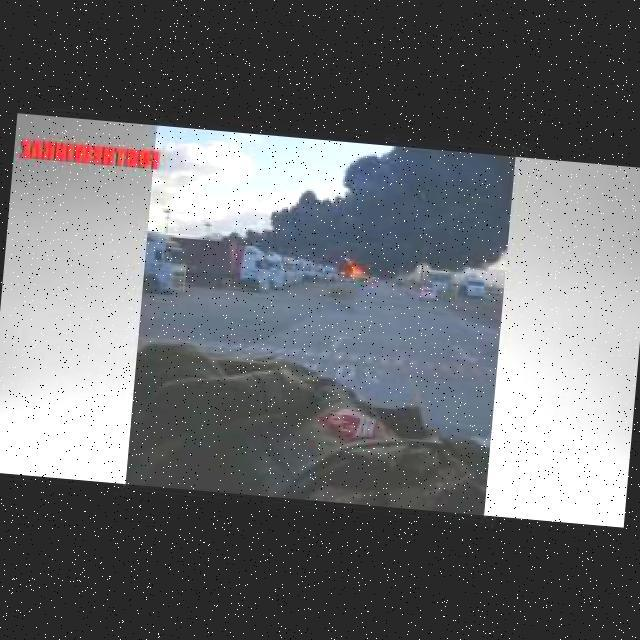Fire: (344, 260, 369, 280)
Smoke: (208, 130, 515, 272)
